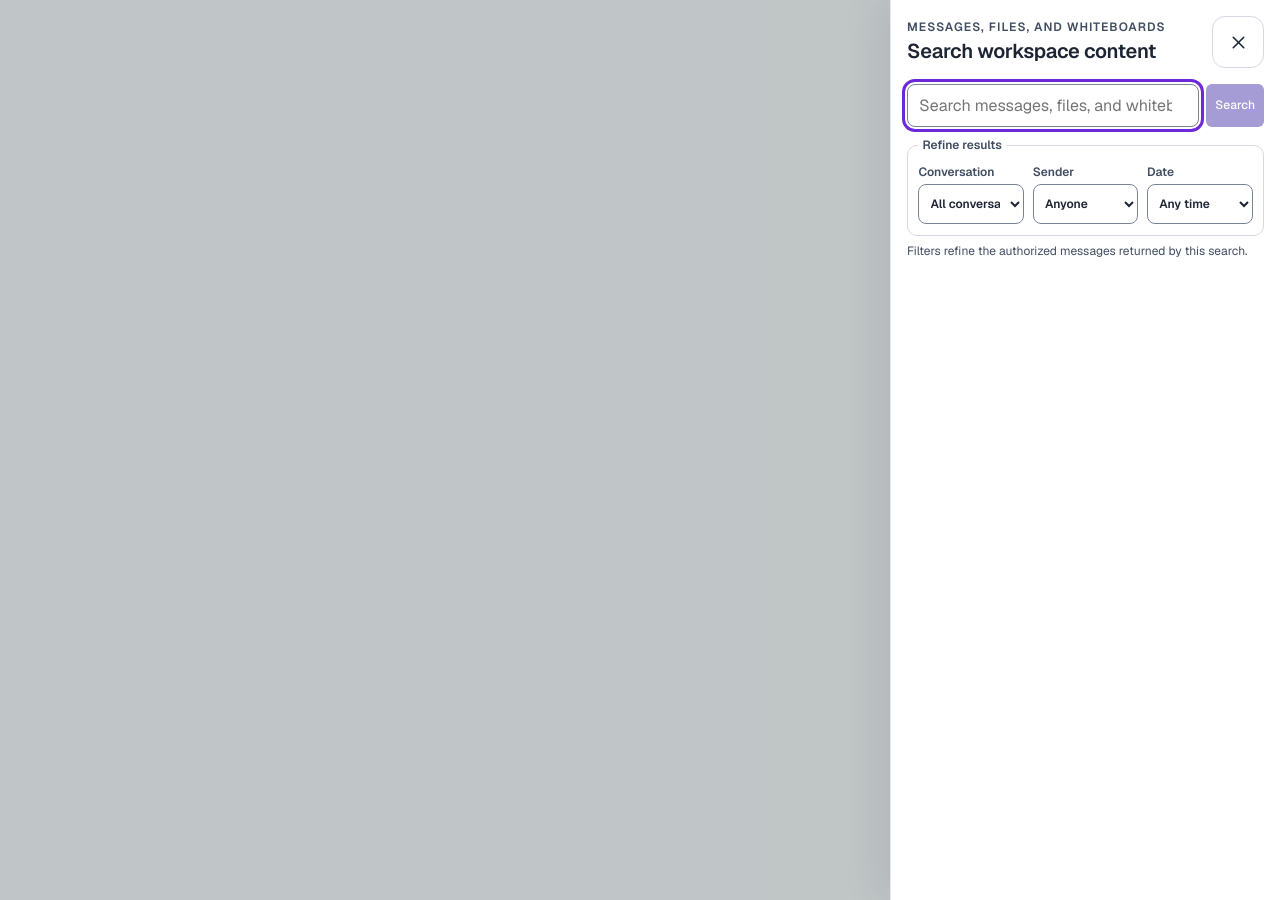
Test: SearchPanel accessibility › retains sender labels across result pages and disambiguates duplicate names
Type "retained" into the search field at (1053,105), box top-left (907, 84), bottom-right (1199, 127)
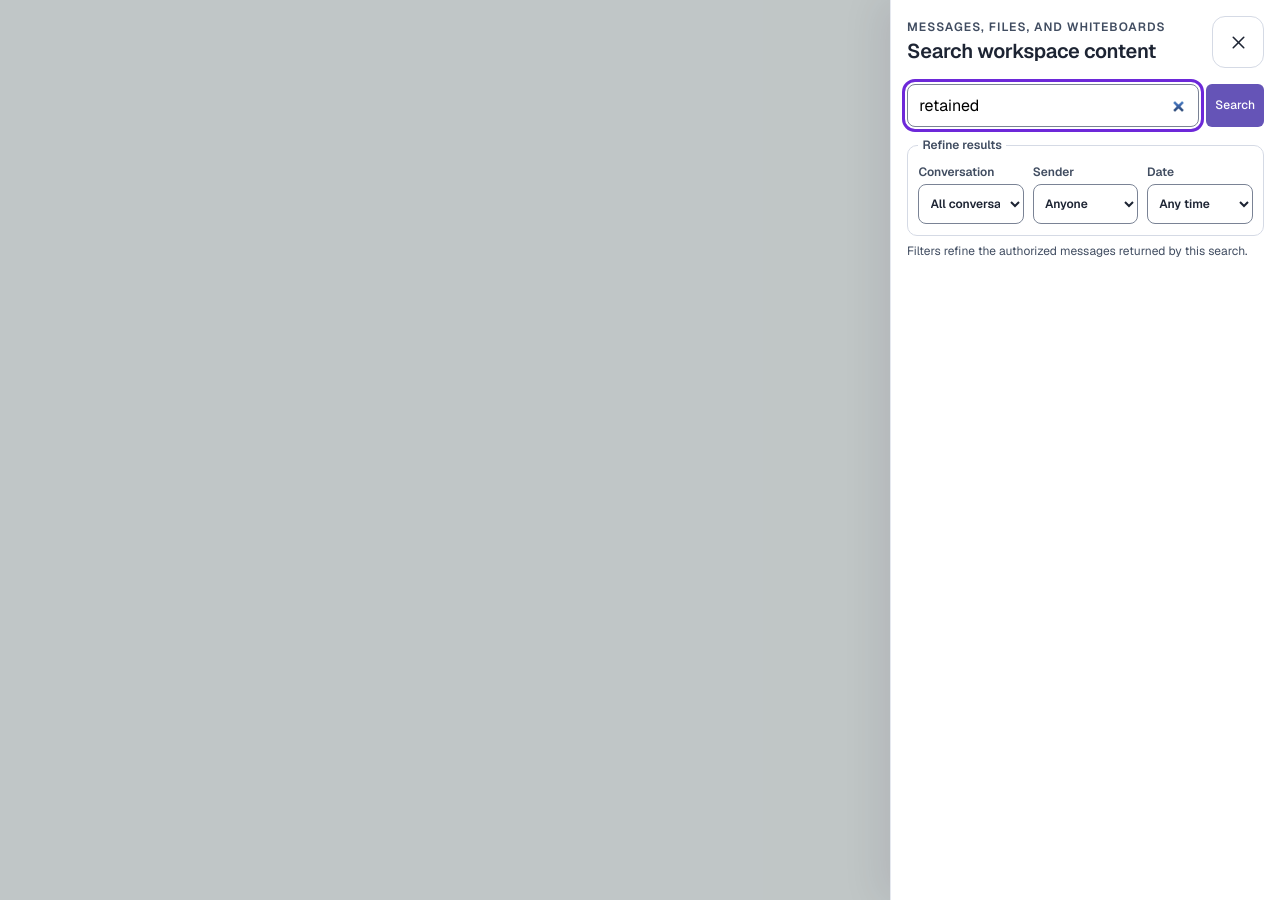
Click the button "Search" at (1235,105), box top-left (1206, 84), bottom-right (1264, 127)
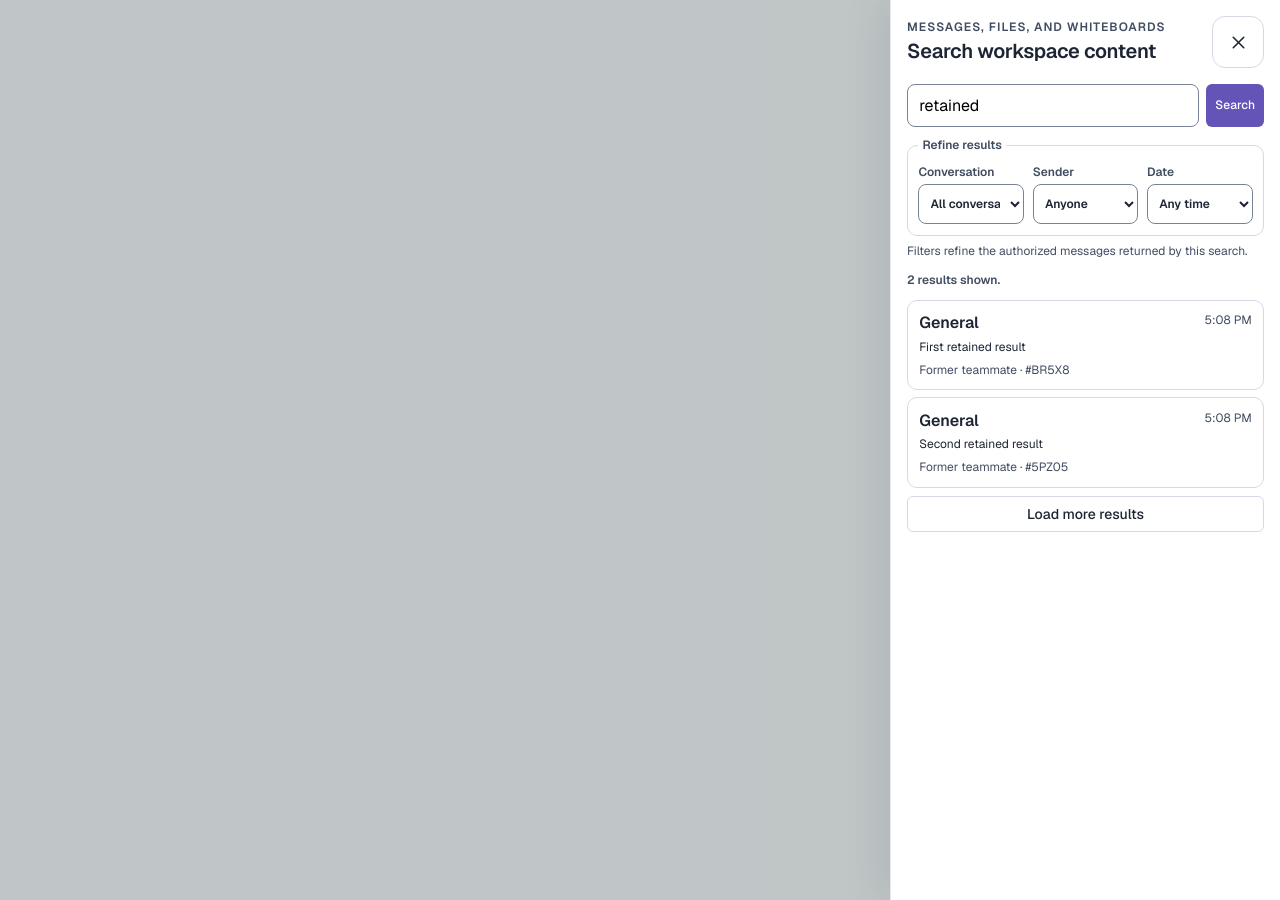
Click the button "Load more results" at (1086,514), box top-left (907, 496), bottom-right (1264, 532)
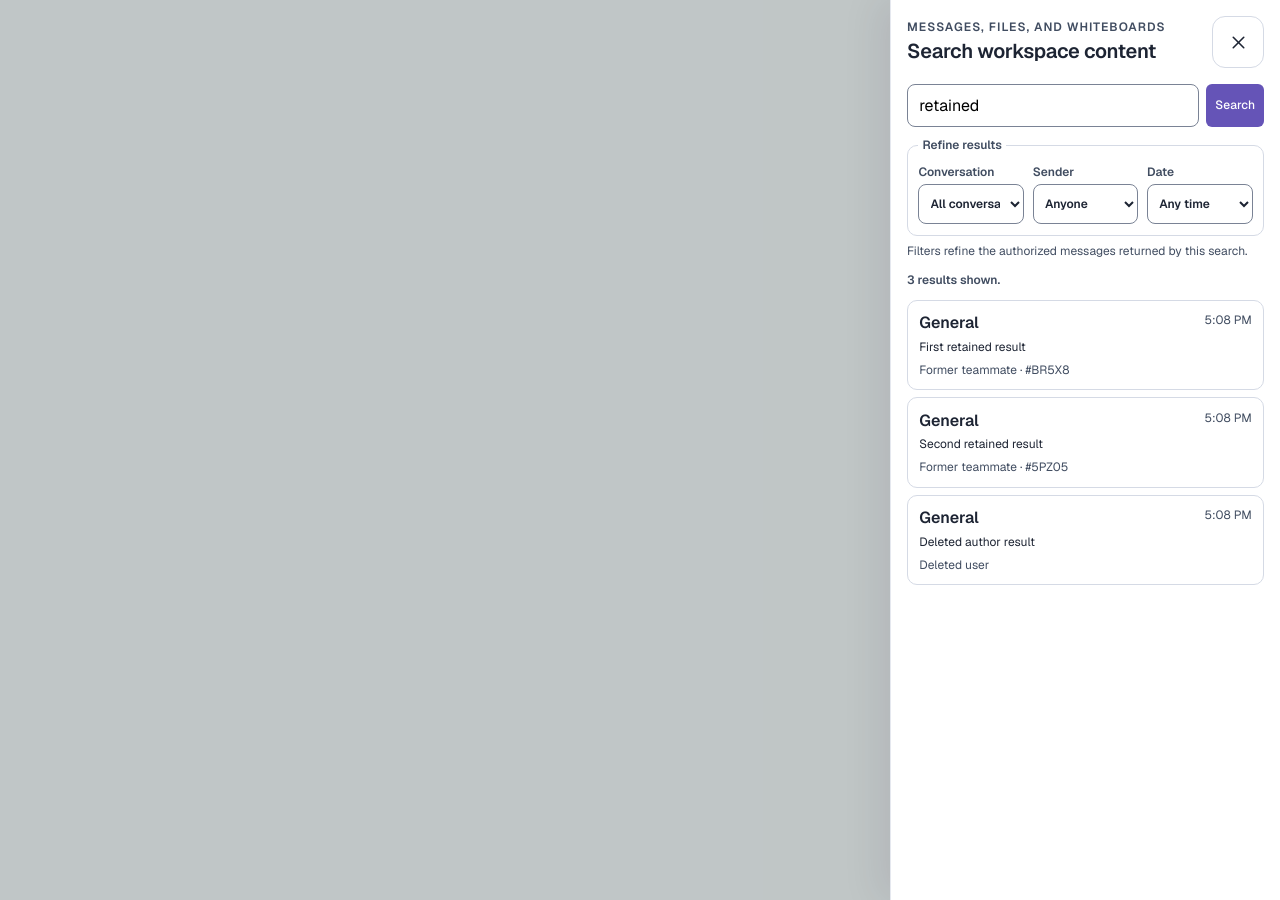
Expected: the text "Deleted user" is shown, top-left (919, 556), bottom-right (989, 572)
